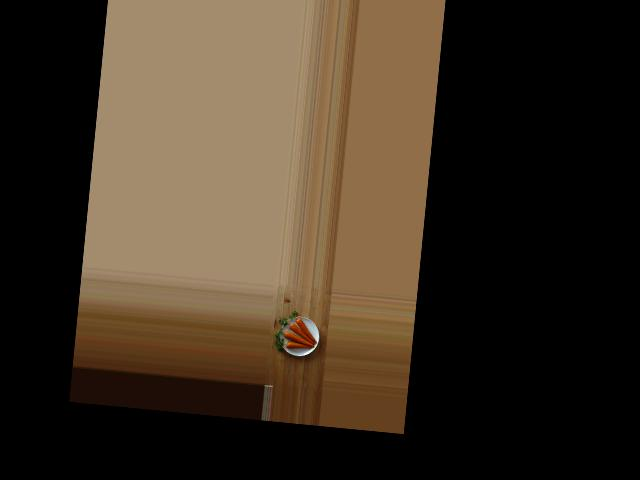carrot: (292, 316, 320, 342)
